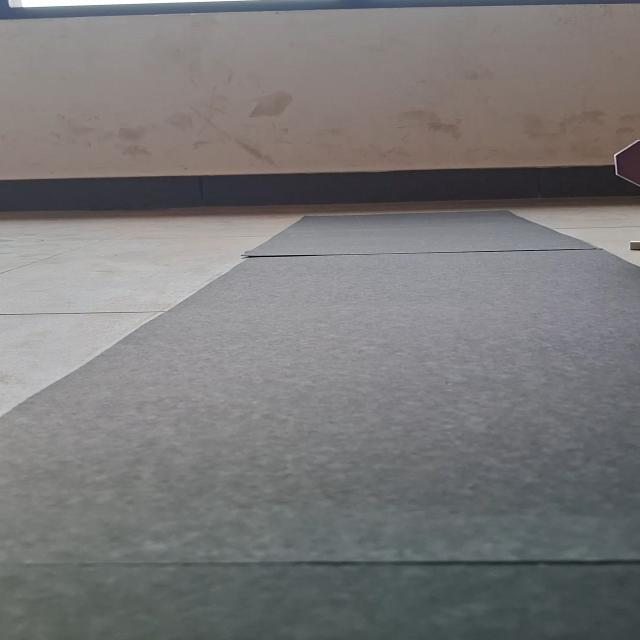Stop: (611, 139, 640, 191)
